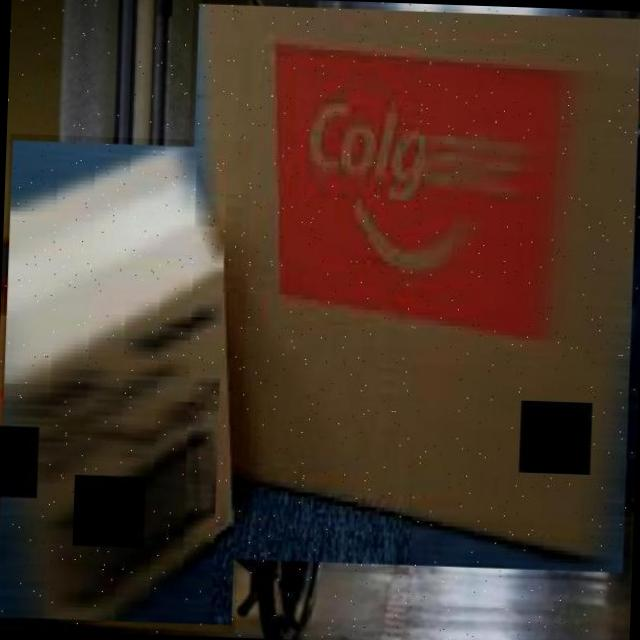box: (173, 0, 640, 582), (0, 132, 251, 633)
